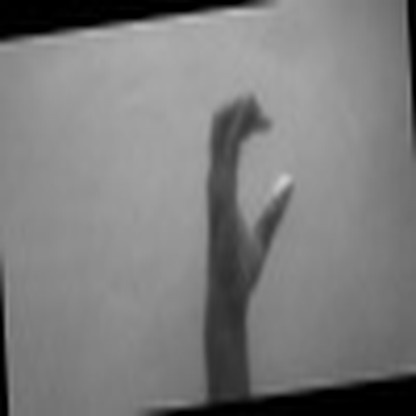c: (199, 89, 301, 287)
